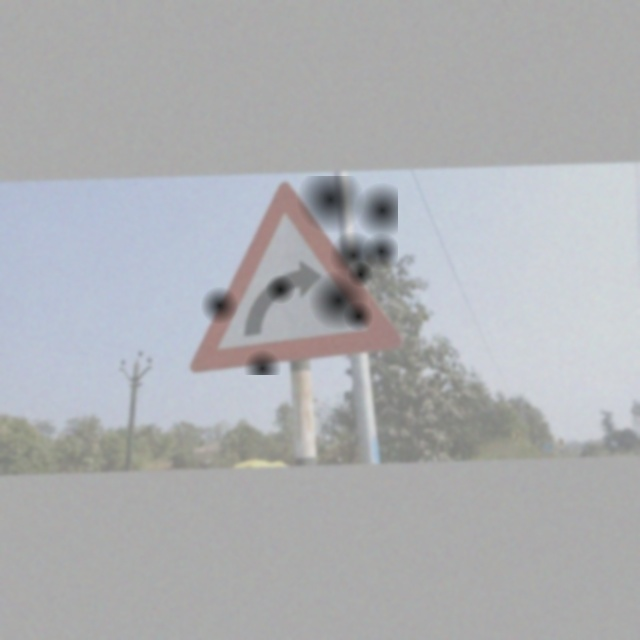Right_Hand_Curve: (193, 176, 398, 375)
